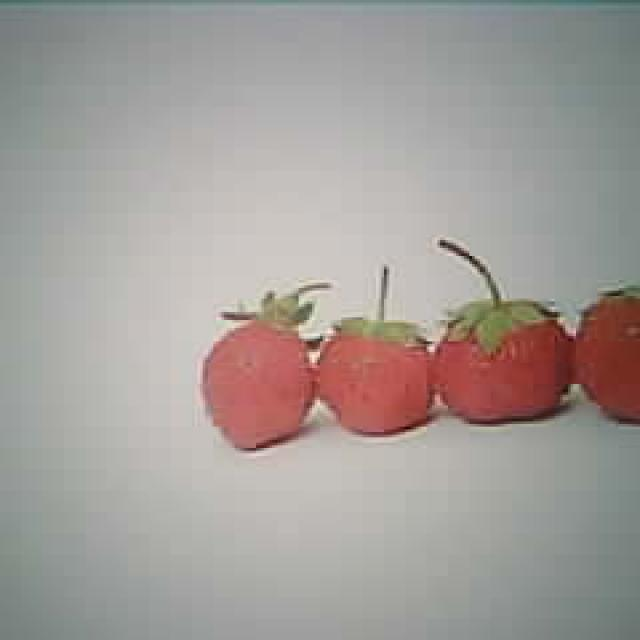ripe: (434, 304, 570, 419), (202, 316, 318, 448), (317, 320, 433, 434)
